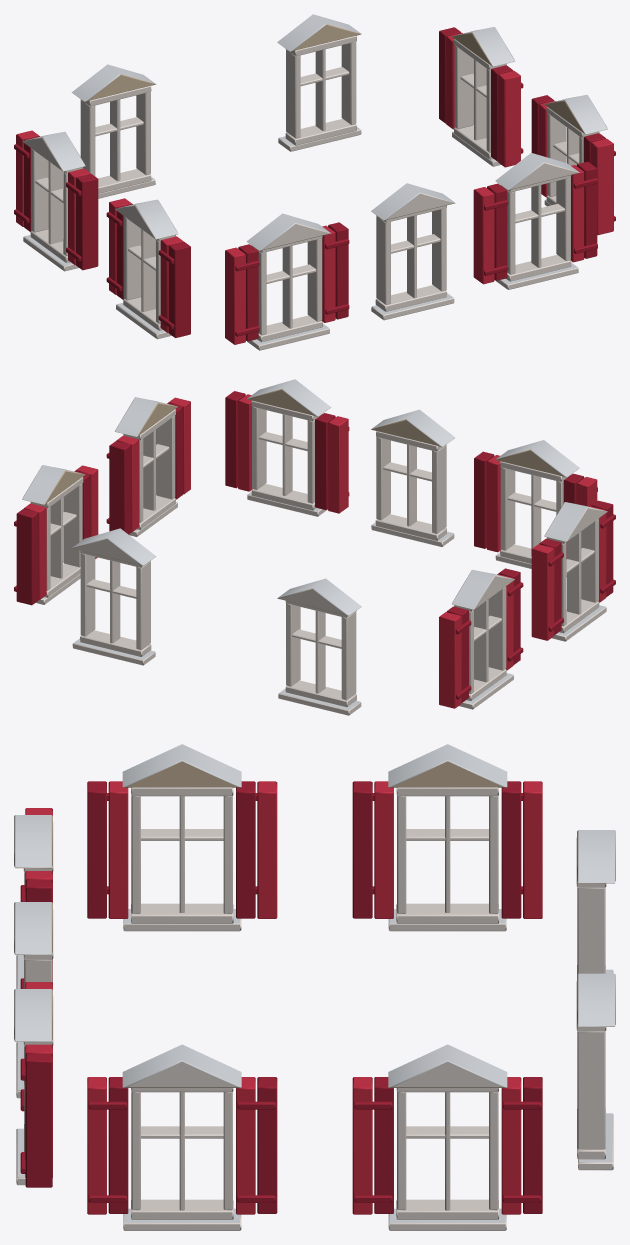
Rendered from CandyHouse_Butter_Trim2.glb.
3 renders of one model, top to bottom at view 1: azimuth 30°, elevation 25°; view 2: azimuth 150°, elevation 25°; view 3: azimuth 270°, elevation 25°, orthographic. The views are drawn at different scales.
Parts seen in each view (by area): view 1: CandyHouse_Butter_Trim2; view 2: CandyHouse_Butter_Trim2; view 3: CandyHouse_Butter_Trim2.
Boxes of the visible parts, x1=… form: CandyHouse_Butter_Trim2: x1=14, y1=14, x2=615, y2=350; CandyHouse_Butter_Trim2: x1=14, y1=379, x2=615, y2=715; CandyHouse_Butter_Trim2: x1=14, y1=744, x2=615, y2=1230.
Size of the model in its own units: 25.4 by 6.43 by 20.4.
